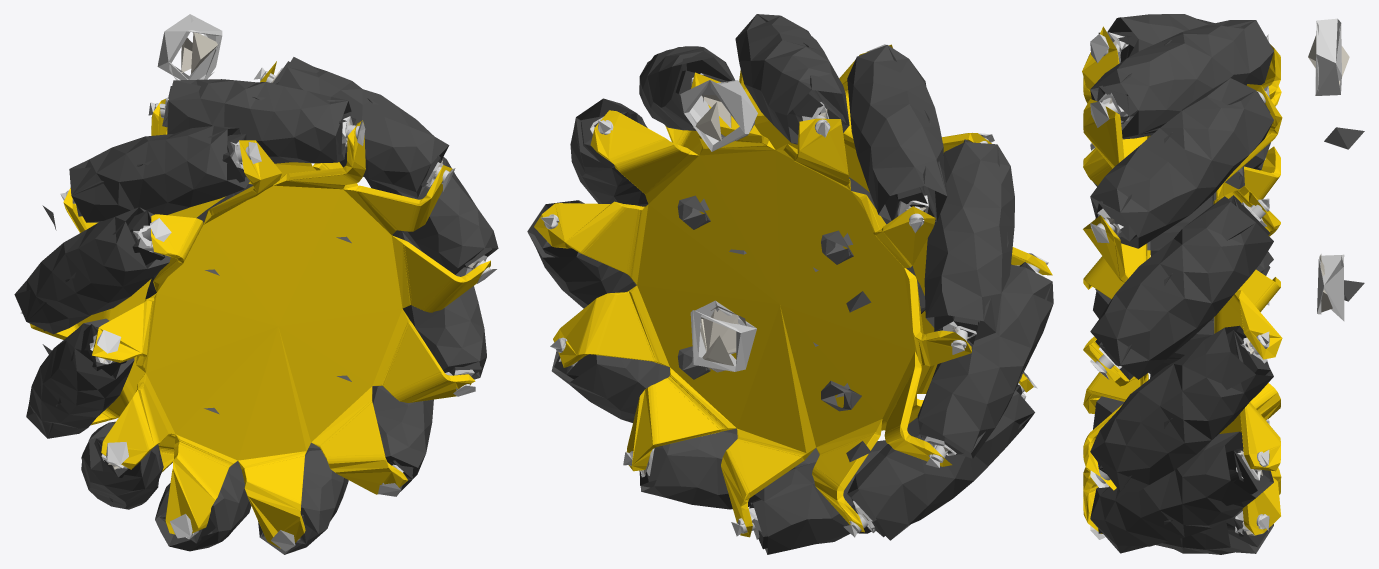
Rendered from wheelFR.glb.
The picture shows the model from 3 angles, left to right: view 1: azimuth 30°, elevation 25°; view 2: azimuth 150°, elevation 25°; view 3: azimuth 270°, elevation 25°; orthographic projection. The views are drawn at different scales.
Visible parts, largest first — view 1: wheelFR_3, wheelFR_0, wheelFR_2, wheelFR_4, wheelFR_5; view 2: wheelFR_3, wheelFR_0, wheelFR_2, wheelFR_4, wheelFR_1, wheelFR_5; view 3: wheelFR_0, wheelFR_3, wheelFR_2, wheelFR_4, wheelFR_1, wheelFR_5.
Boxes of the visible parts, left/top/right/bottom form: wheelFR_3: left=30, top=61, right=490, bottom=548; wheelFR_0: left=14, top=57, right=498, bottom=554; wheelFR_2: left=20, top=14, right=496, bottom=551; wheelFR_4: left=43, top=61, right=492, bottom=544; wheelFR_5: left=98, top=32, right=479, bottom=534; wheelFR_3: left=534, top=44, right=1052, bottom=537; wheelFR_0: left=527, top=14, right=1053, bottom=554; wheelFR_2: left=541, top=44, right=1048, bottom=539; wheelFR_4: left=532, top=70, right=1035, bottom=549; wheelFR_1: left=677, top=195, right=871, bottom=461; wheelFR_5: left=640, top=82, right=1025, bottom=531; wheelFR_0: left=1090, top=14, right=1273, bottom=554; wheelFR_3: left=1082, top=26, right=1282, bottom=535; wheelFR_2: left=1090, top=18, right=1344, bottom=539; wheelFR_4: left=1095, top=31, right=1270, bottom=547; wheelFR_1: left=1147, top=127, right=1364, bottom=329; wheelFR_5: left=1102, top=35, right=1349, bottom=535.
Bounding box in the file's own units: 4.07 × 4.23 × 2.13.
